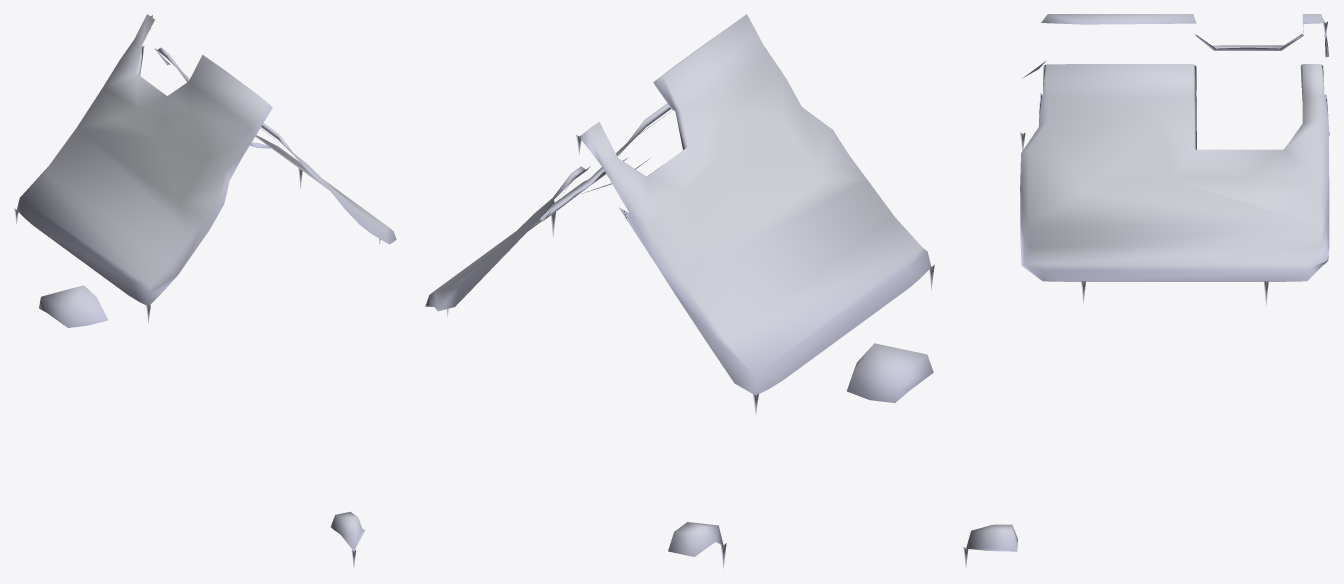
Rendered from category.staking.xs.snow.glb.
The picture shows the model from 3 angles, left to right: view 1: azimuth 30°, elevation 25°; view 2: azimuth 150°, elevation 25°; view 3: azimuth 270°, elevation 25°; orthographic projection. The views are drawn at different scales.
Visible parts, largest first — view 1: snow, tier.2; view 2: snow, tier.2; view 3: snow.
Part boxes in pixels (x1,y1,x2,y2): snow: [14, 14, 396, 568]; tier.2: [39, 285, 108, 327]; snow: [425, 14, 934, 568]; tier.2: [847, 343, 933, 402]; snow: [963, 14, 1329, 568].
Size of the model in its own units: 2.87 by 4.13 by 2.61.
